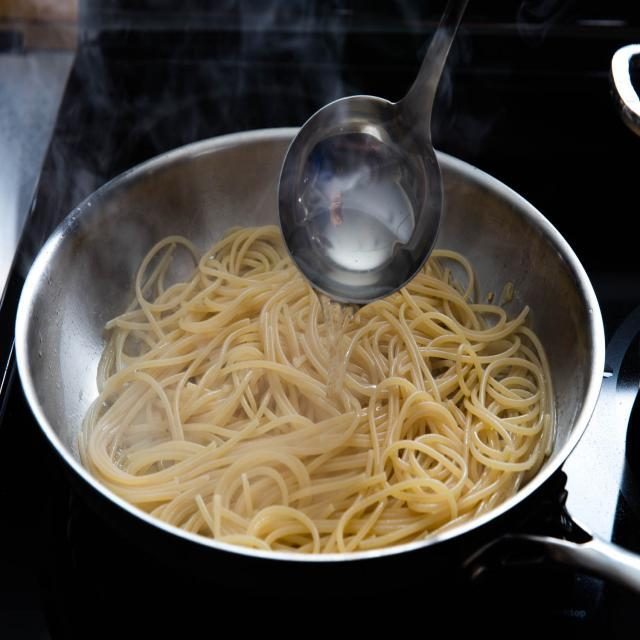Oil pasta: (35, 190, 605, 598)
